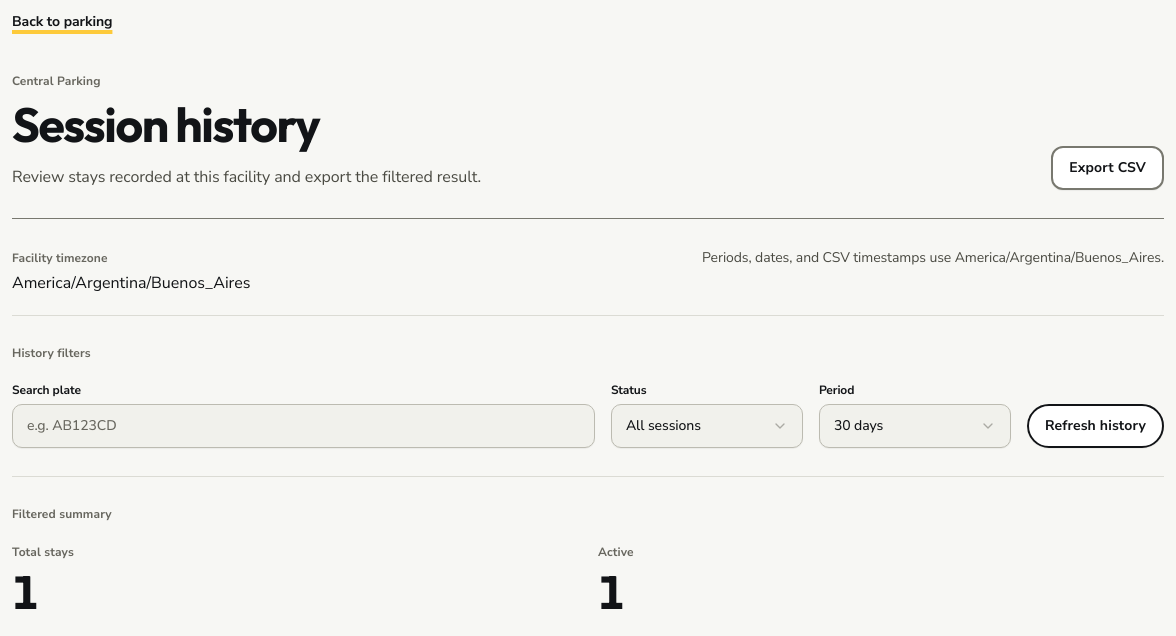
Scenario: parking session history pagination › keeps cached history visible and offers a retry after a refresh error
This screenshot has width=1176, height=636.
Click the button "Refresh history" at (1095, 426), box [1027,404,1164,448]
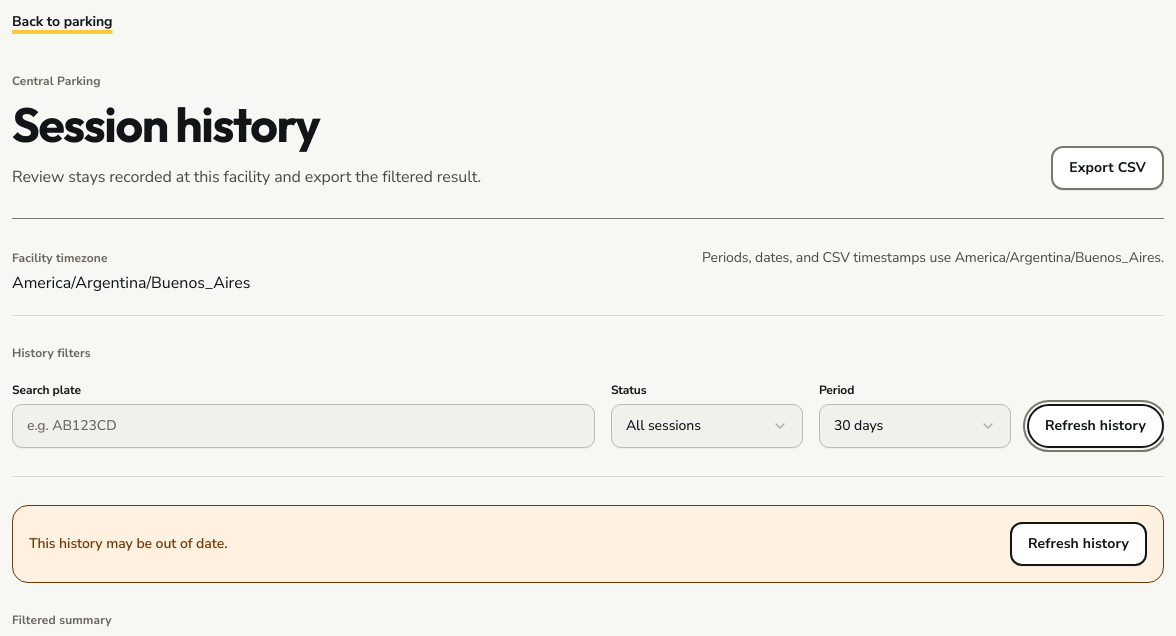
Expected: the message shows "This history may be out of date.", [29,534,227,553]
Click the button "Refresh history" in the row of "This history may be out of date." at (1078, 544), box [1010,522,1147,566]
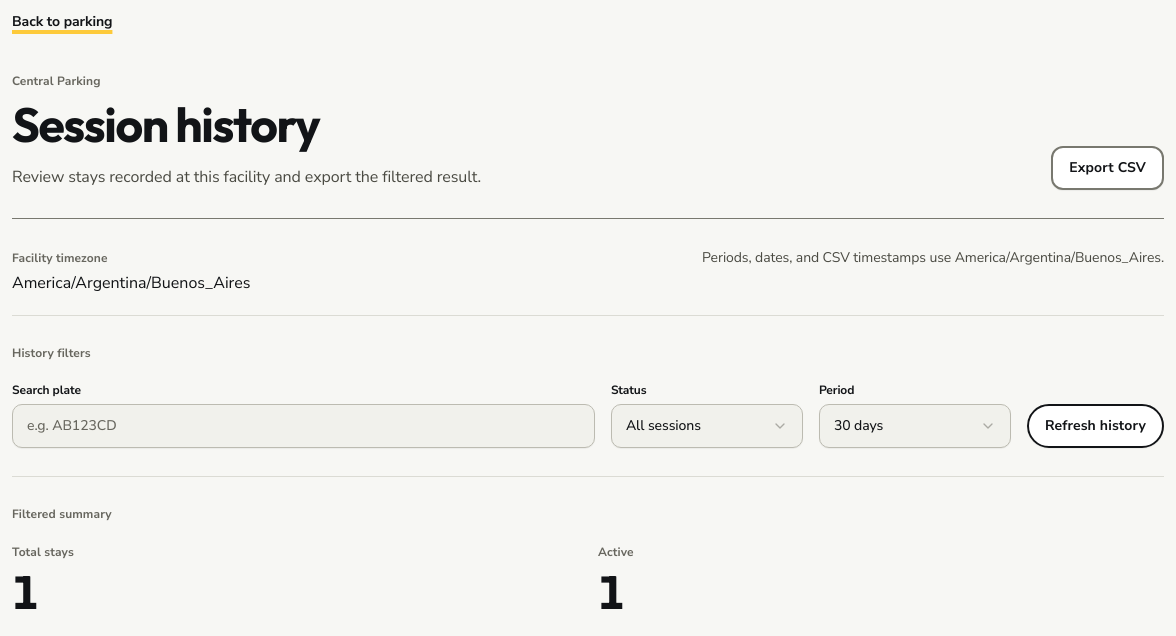
Expected: the text "This history may be out of date." is gone
